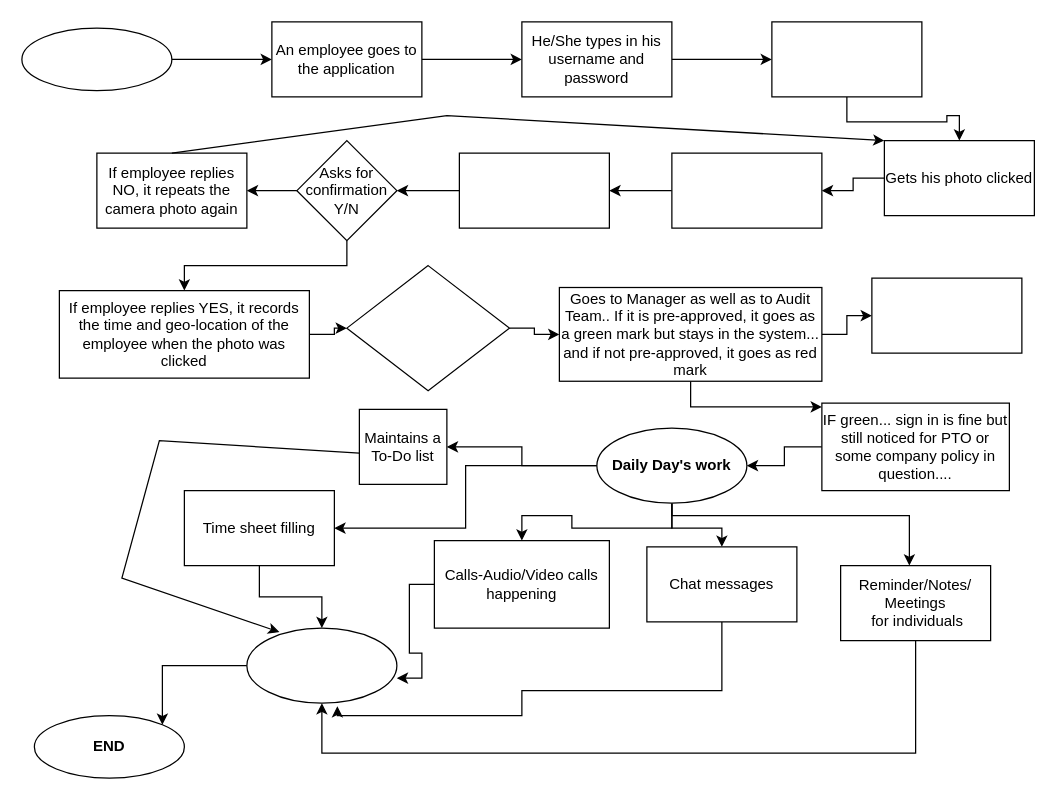
Image size: 1056x800. Some labels were removed from this diagram. The centre of each missing label's shape, as x and y in pixels:
Daily Day's end: the point at 321,665
For time beyond the regular sign in time: the point at 427,327
Goes to by default camera screen for sign in time: the point at 846,59
Info comes back from the backend saying the employee name and employee ID: the point at 533,190
START: the point at 96,59
The photo goes to backend for matching: the point at 746,190
XX red marks and company policy comes into picture: the point at 946,315
